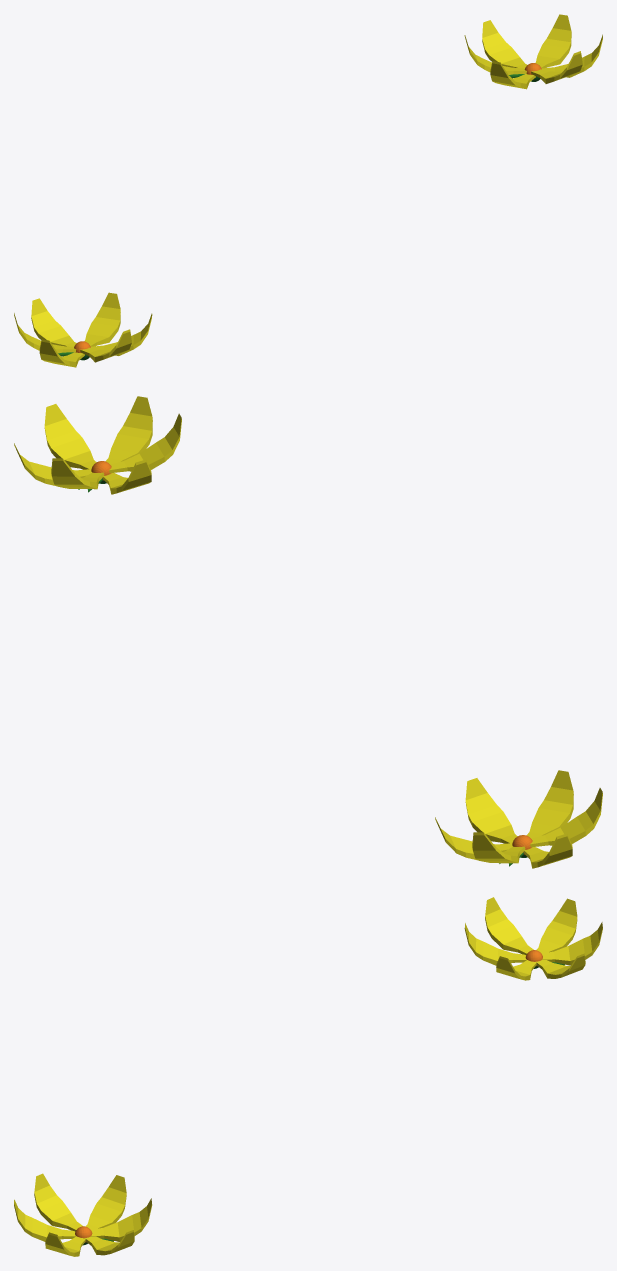
Rendered from Flowers Sparse.fbx.
3 views of the same model, one above another, from view 1: azimuth 90°, elevation 25°; view 2: azimuth 150°, elevation 25°; view 3: azimuth 270°, elevation 25° (orthographic). The views are drawn at different scales.
Visible parts, largest first — view 1: Cylinder.038; view 2: Cylinder.038; view 3: Cylinder.038.
Part boxes in pixels (left/top/right/bottom): Cylinder.038: left=14, top=14, right=602, bottom=367; Cylinder.038: left=14, top=396, right=602, bottom=868; Cylinder.038: left=14, top=897, right=602, bottom=1256.
Bounding box in the file's own units: 560 × 39.7 × 420.
